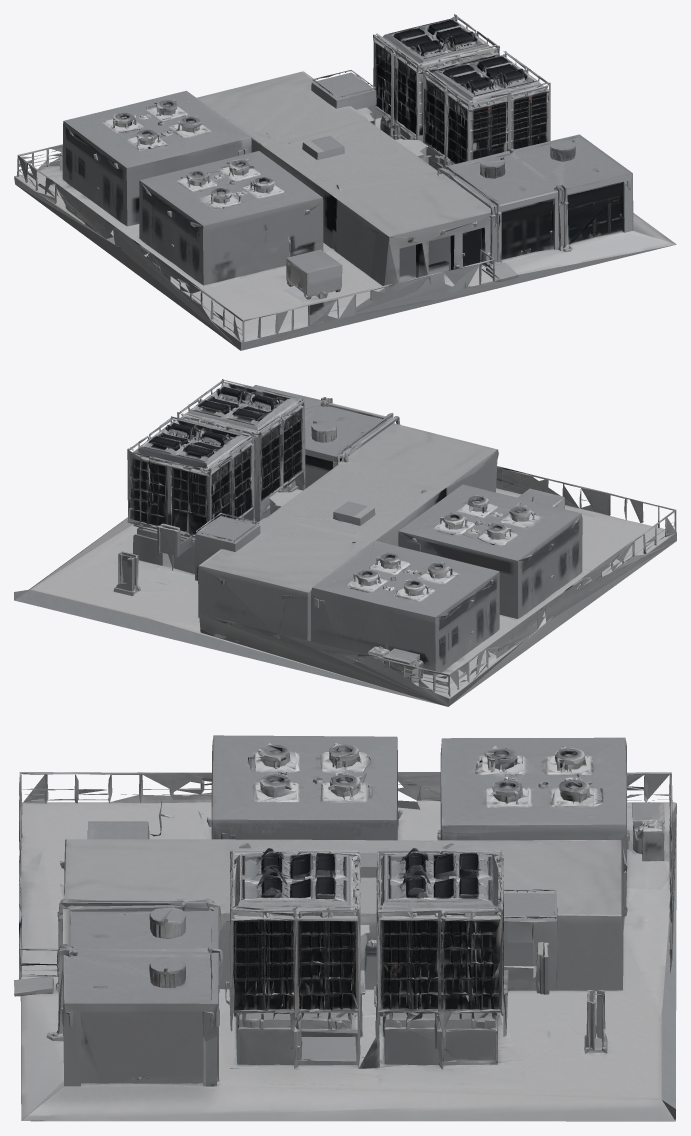
The model's file is datacenter-medium.glb.
3 renders of one model, top to bottom at view 1: azimuth 30°, elevation 25°; view 2: azimuth 150°, elevation 25°; view 3: azimuth 270°, elevation 25°, orthographic. The views are drawn at different scales.
Size of the model in its own units: 1.9 by 0.5467 by 1.73.
1 material, 1 textured.
